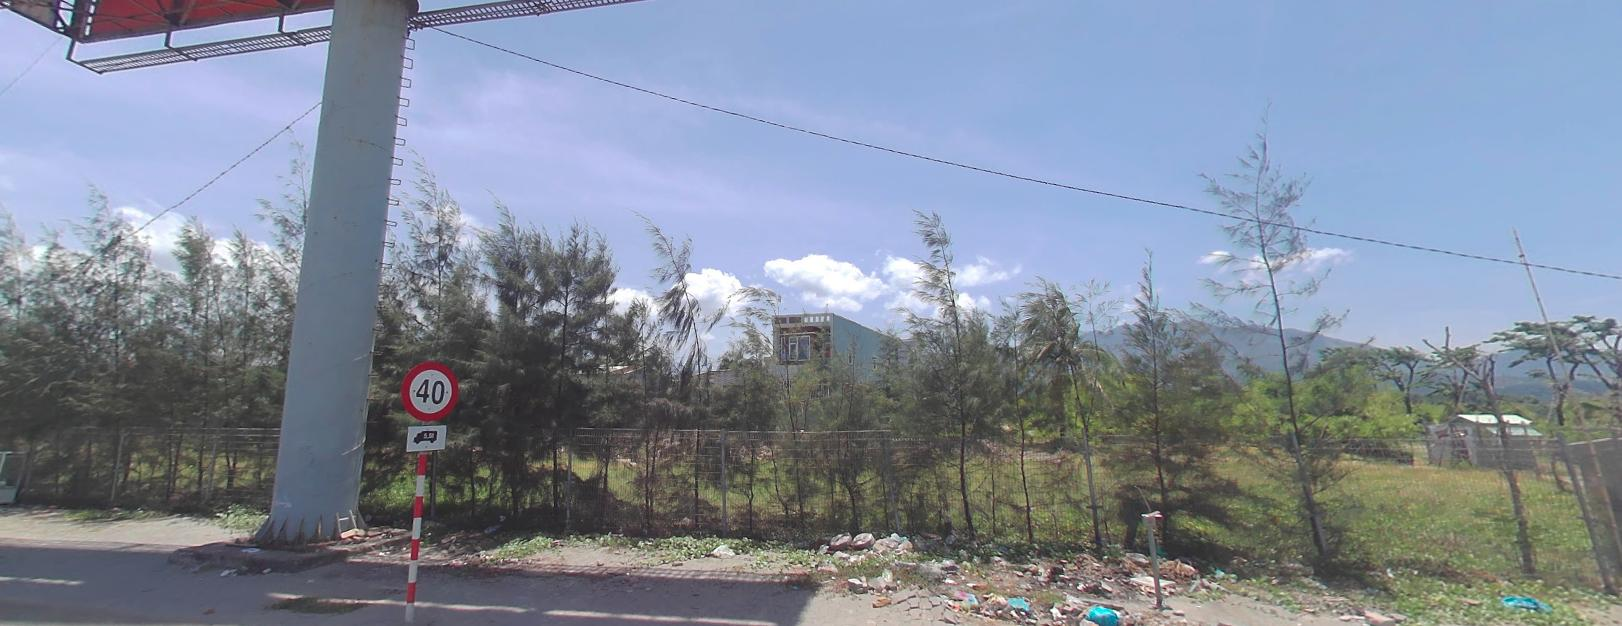Gioi han toc do: (400, 361, 459, 420)
